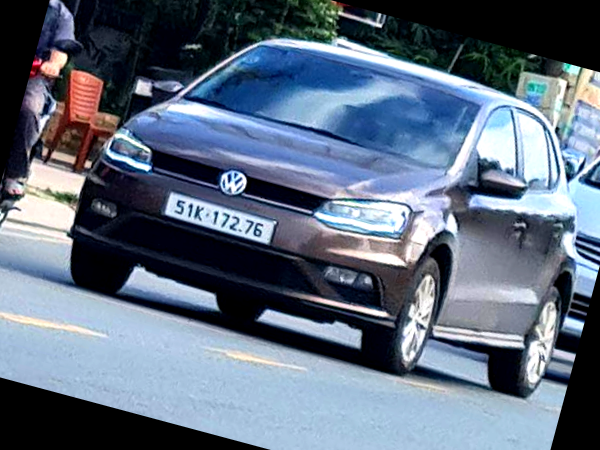lisence: (161, 190, 276, 247)
